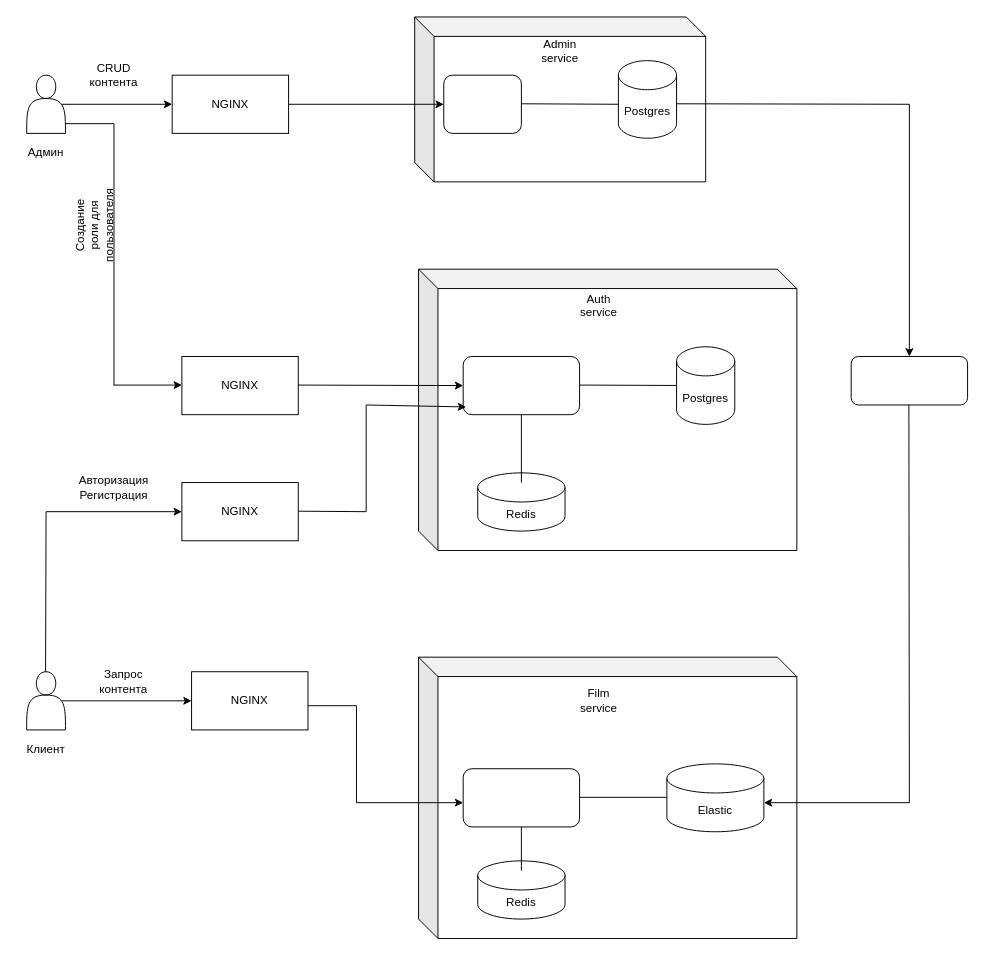
Image size: 985x955. Some labels were removed from this diagram. Each missing label, with the centre of its shape:
"Async api" belongs at (x=521, y=797).
"Auth api" belongs at (x=521, y=385).
"Django" belongs at (x=482, y=103).
"ETL" belongs at (x=909, y=380).
